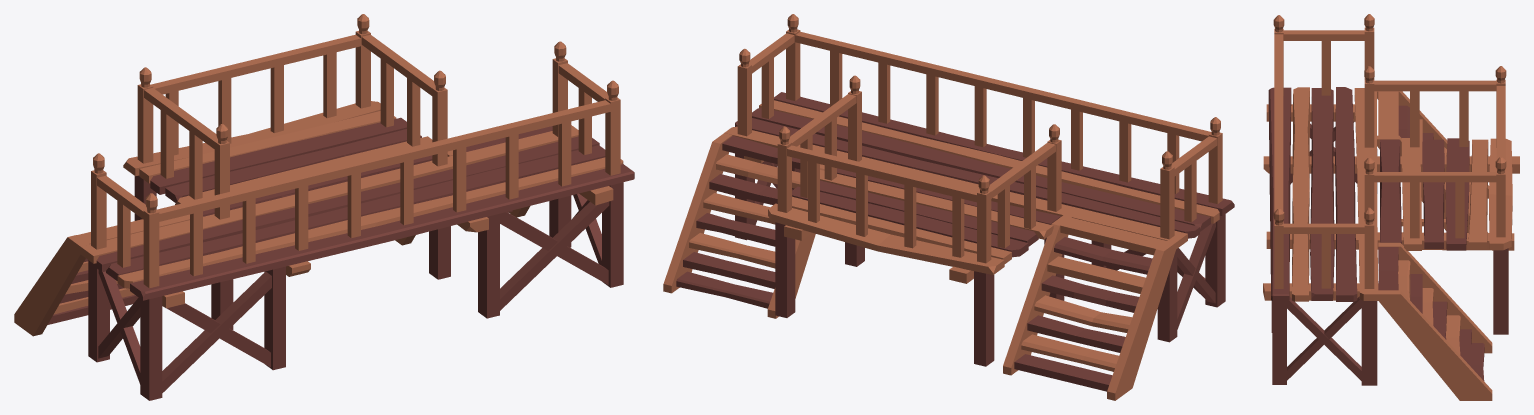
File: Execution Tribun 02.fbx
3 views of the same model, side by side, from view 1: azimuth 30°, elevation 25°; view 2: azimuth 150°, elevation 25°; view 3: azimuth 270°, elevation 25° (orthographic). The views are drawn at different scales.
Visible parts, largest first — view 1: Execution Tribun 02; view 2: Execution Tribun 02; view 3: Execution Tribun 02.
Boxes of the visible parts, x1,y1,x2,y2 form: Execution Tribun 02: (14,14,634,400); Execution Tribun 02: (663,14,1234,400); Execution Tribun 02: (1263,14,1519,400).
Bounding box in the file's own units: 811 × 338 × 423.
